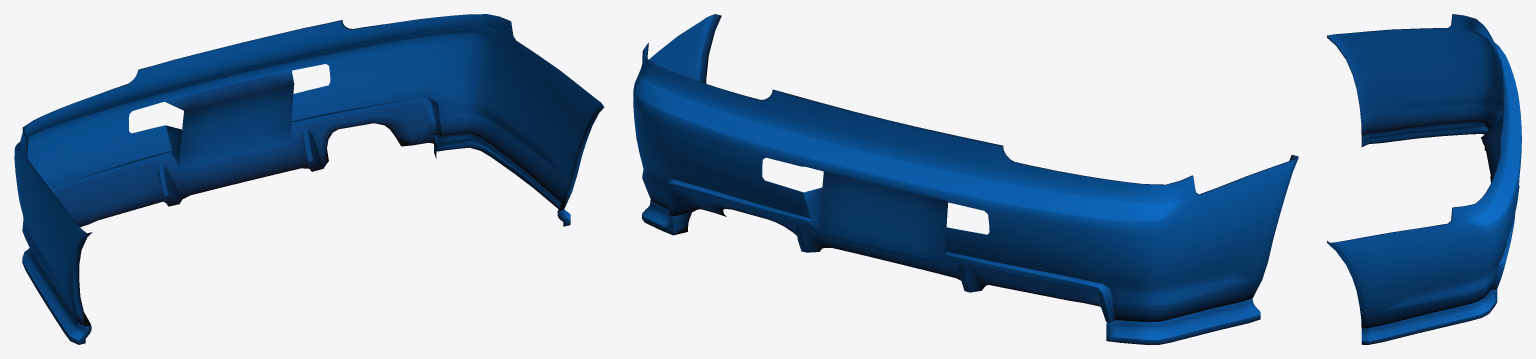
The model's file is R34_BB04_Duco.fbx.
3 renders of one model, left to right at view 1: azimuth 30°, elevation 25°; view 2: azimuth 150°, elevation 25°; view 3: azimuth 270°, elevation 25°, orthographic. The views are drawn at different scales.
Visible parts, largest first — view 1: R34_BB04_Duco; view 2: R34_BB04_Duco; view 3: R34_BB04_Duco.
Boxes of the visible parts, x1,y1,x2,y2 form: R34_BB04_Duco: (14,14,604,344); R34_BB04_Duco: (633,14,1298,344); R34_BB04_Duco: (1327,14,1521,344).
Bounding box in the file's own units: 178 × 58.24 × 70.08.
